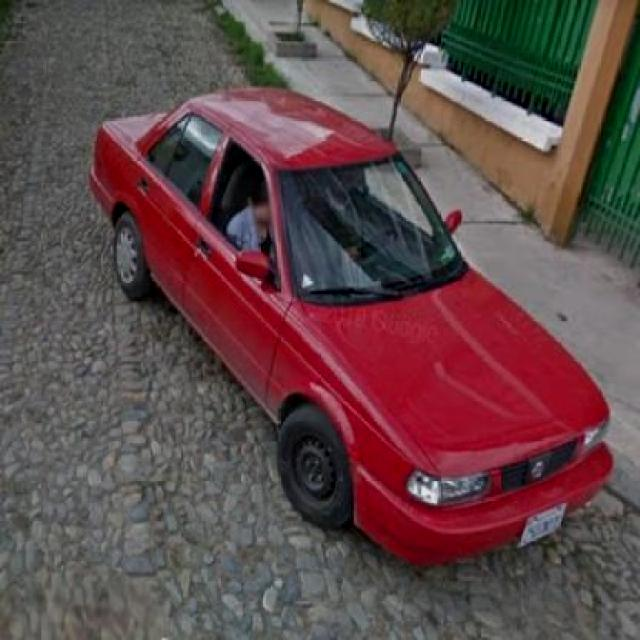car: (119, 89, 613, 554)
